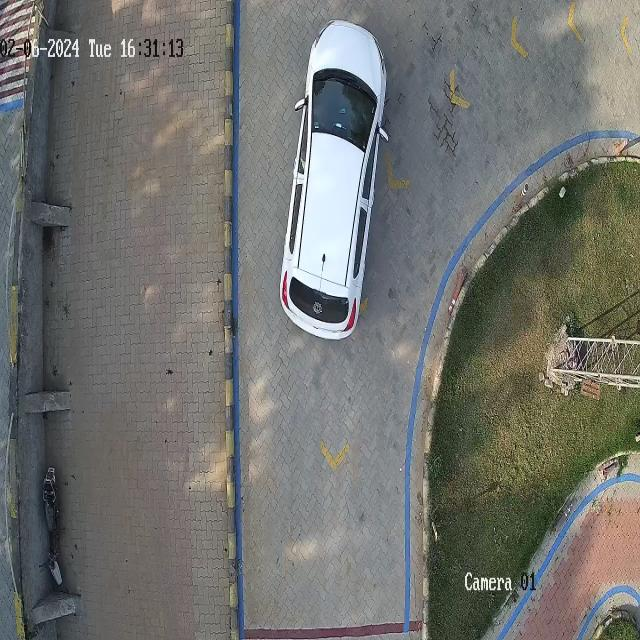car: (280, 21, 388, 341)
